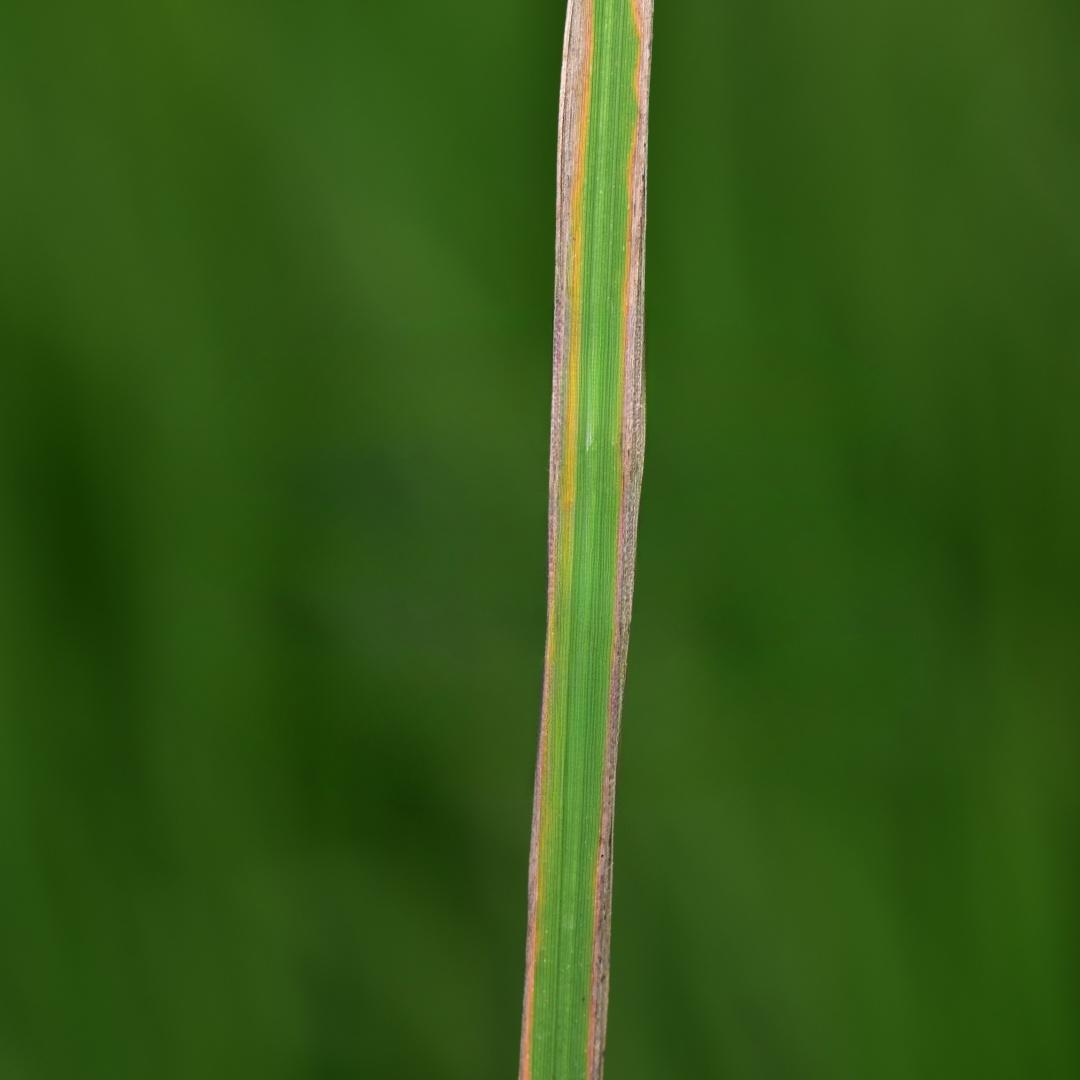BLB: (519, 0, 593, 1078), (587, 1, 652, 1078)
